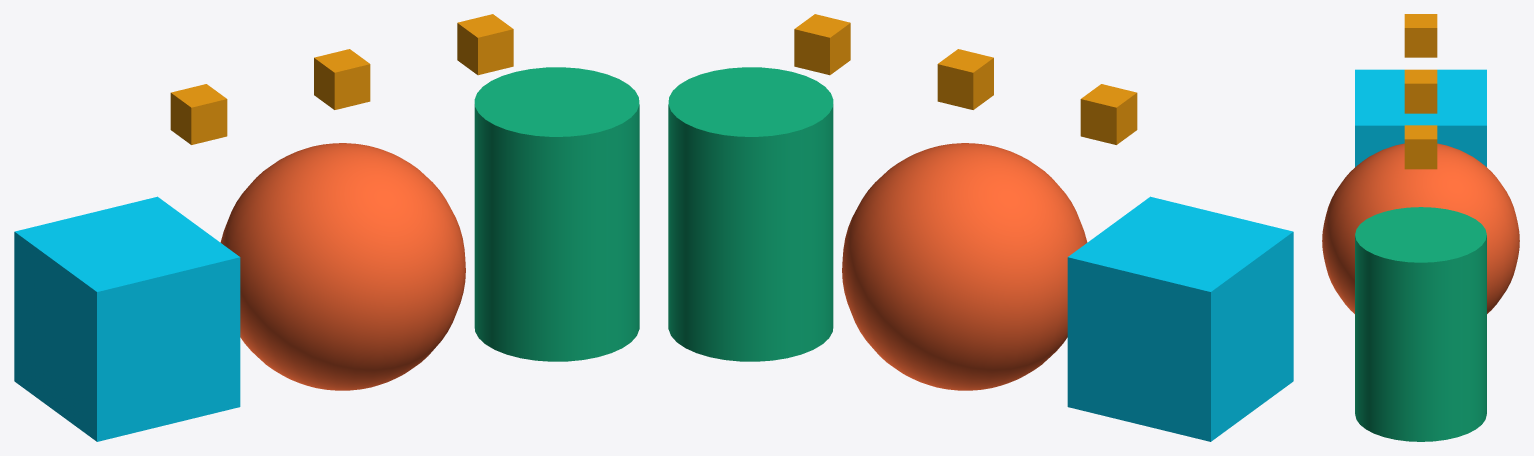
Rendered from sample-model.glb.
3 renders of one model, left to right at view 1: azimuth 30°, elevation 25°; view 2: azimuth 150°, elevation 25°; view 3: azimuth 270°, elevation 25°, orthographic. The views are drawn at different scales.
Visible parts, largest first — view 1: Sphere, Cylinder, Cube, SmallCube_0, SmallCube_2, SmallCube_1; view 2: Sphere, Cylinder, Cube, SmallCube_0, SmallCube_2, SmallCube_1; view 3: Cylinder, Sphere, Cube, SmallCube_1, SmallCube_2, SmallCube_0.
Boxes of the visible parts, x1,y1,x2,y2 form: Sphere: (220,143,465,390); Cylinder: (474,67,639,361); Cube: (14,196,240,441); SmallCube_0: (170,84,227,144); SmallCube_2: (457,14,513,75); SmallCube_1: (314,49,370,109); Sphere: (842,143,1087,390); Cylinder: (668,67,833,361); Cube: (1067,196,1293,441); SmallCube_0: (1080,84,1137,144); SmallCube_2: (794,14,850,75); SmallCube_1: (937,49,993,109); Cylinder: (1355,207,1486,441); Sphere: (1322,143,1519,313); Cube: (1355,69,1486,166); SmallCube_1: (1404,69,1437,113); SmallCube_2: (1404,125,1437,169); SmallCube_0: (1404,14,1437,57).
Bounding box in the file's own units: 8 × 4.25 × 3.
